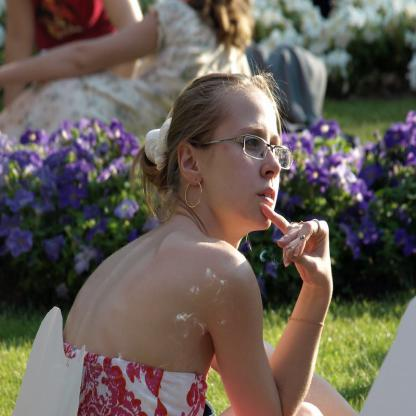smoking: (283, 235, 305, 249)
